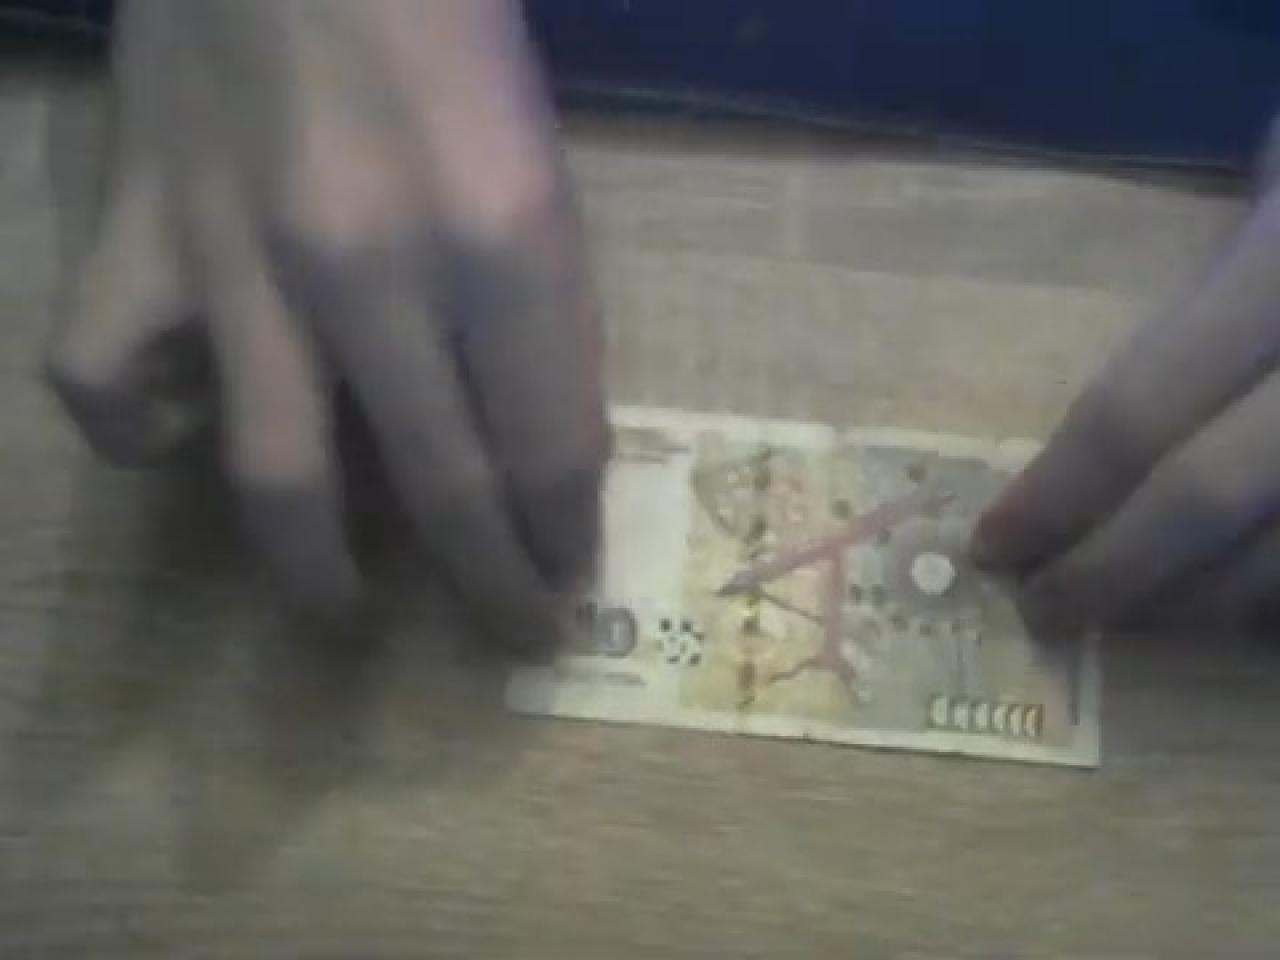10leva: (507, 411, 1096, 768)
